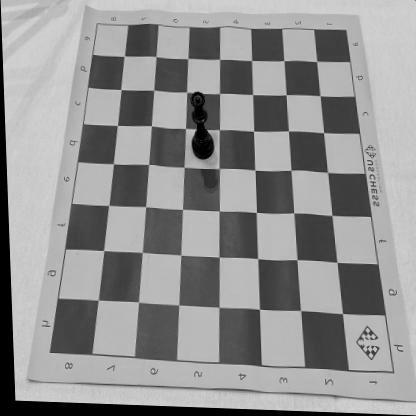black-queen: (188, 92, 214, 163)
